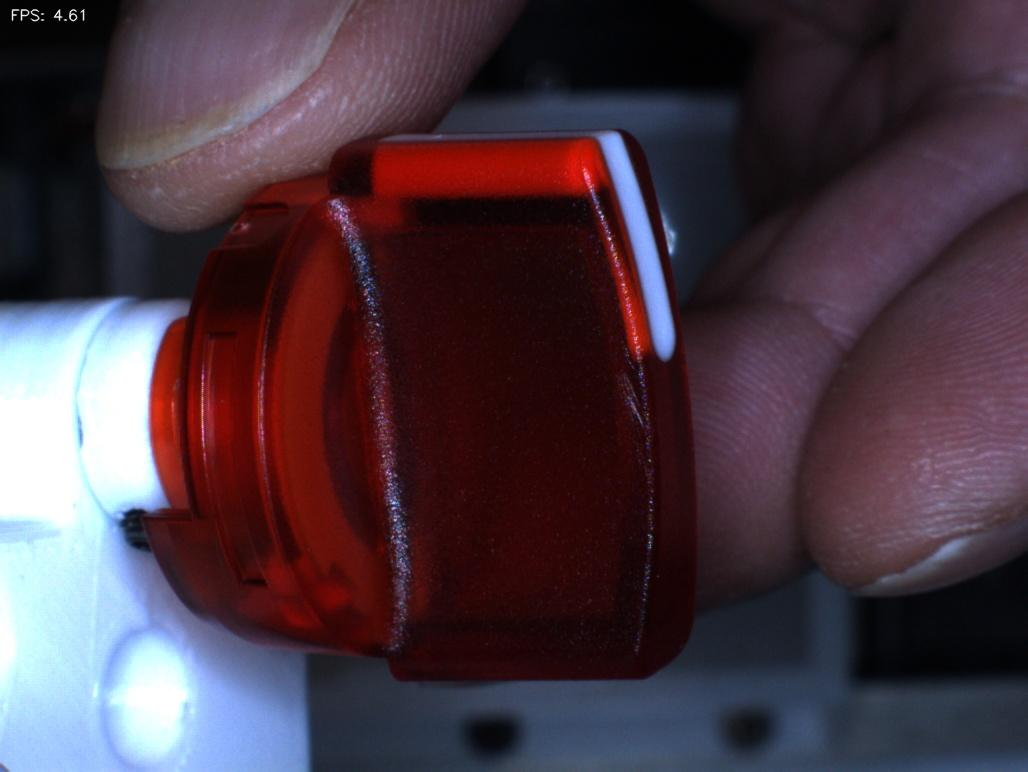Givrage: (593, 335, 662, 457)
